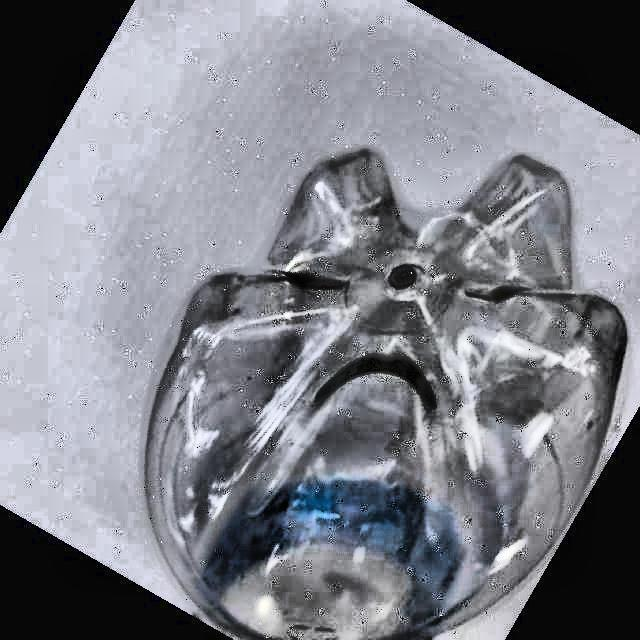plastic: (146, 149, 626, 640)
